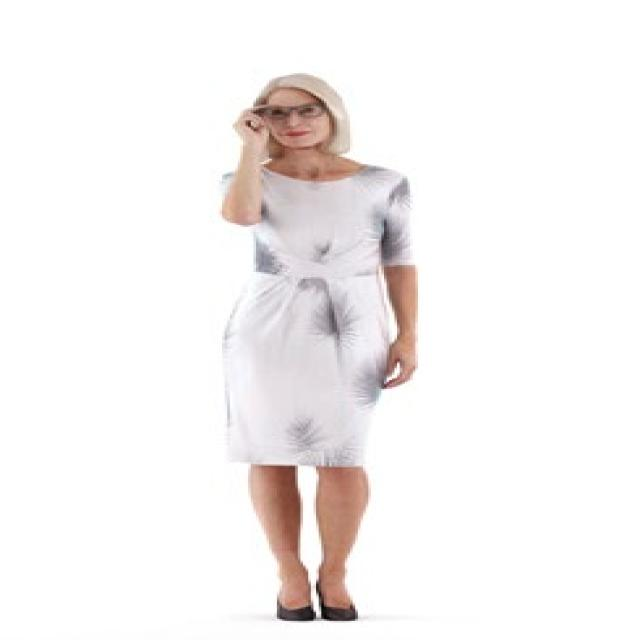standing: (209, 72, 430, 624)
